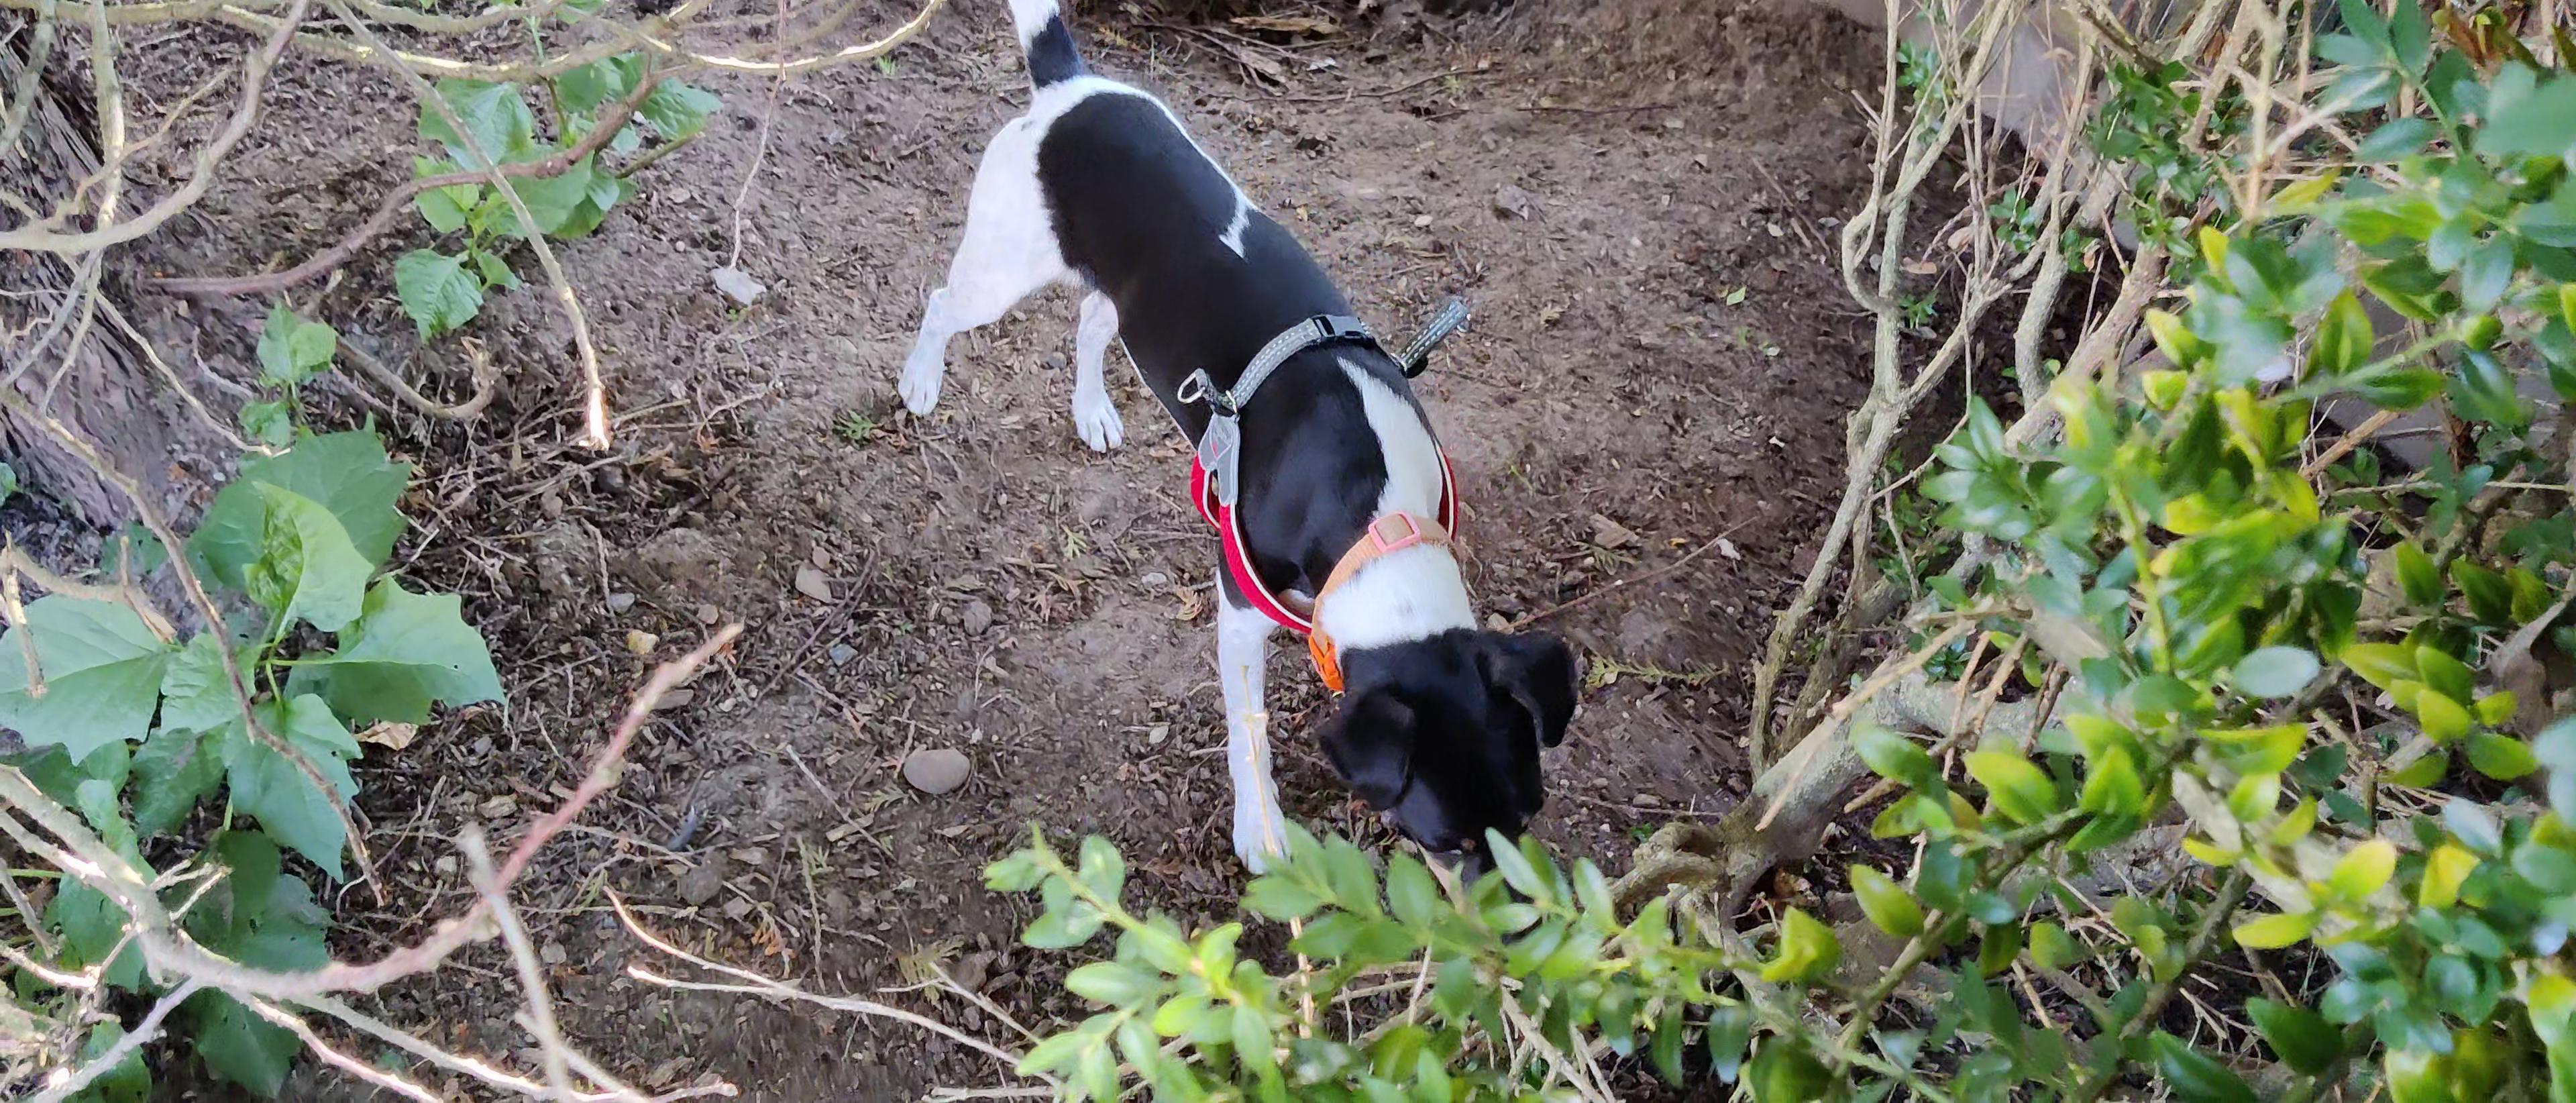Dog: (851, 0, 1597, 968)
